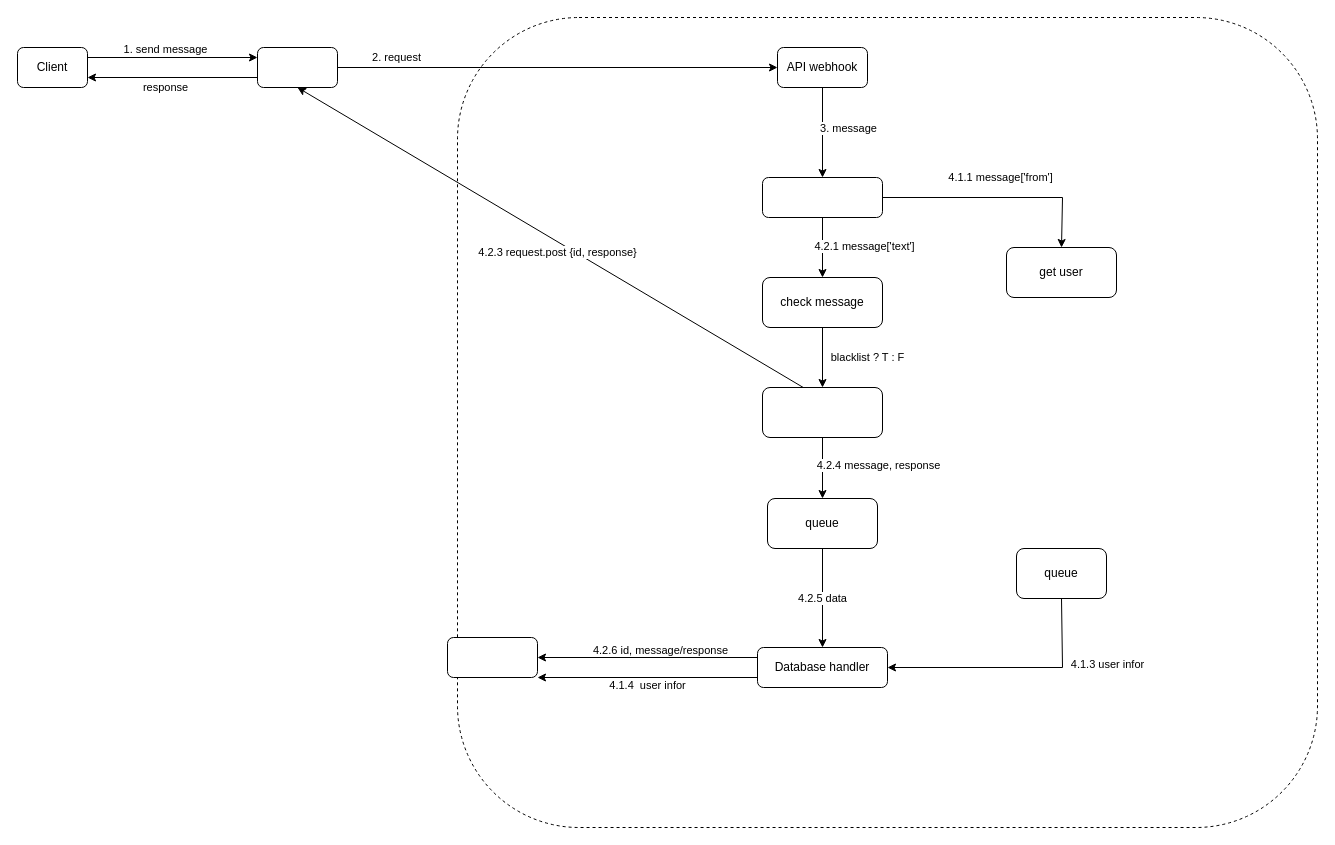
Image size: 1335x845. Some labels were removed from this diagram. The shapes that lost their labels are listed below. From the top down, each one's centre as x and y in pixels, then its label:
point (297, 67): Telegram
point (822, 197): Telebot handler
point (822, 412): response chat
point (492, 657): Database
